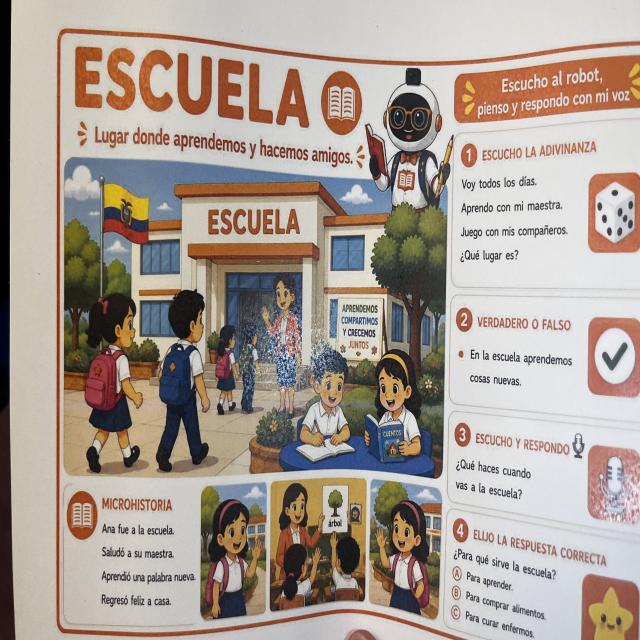escuela: (51, 21, 640, 640)
